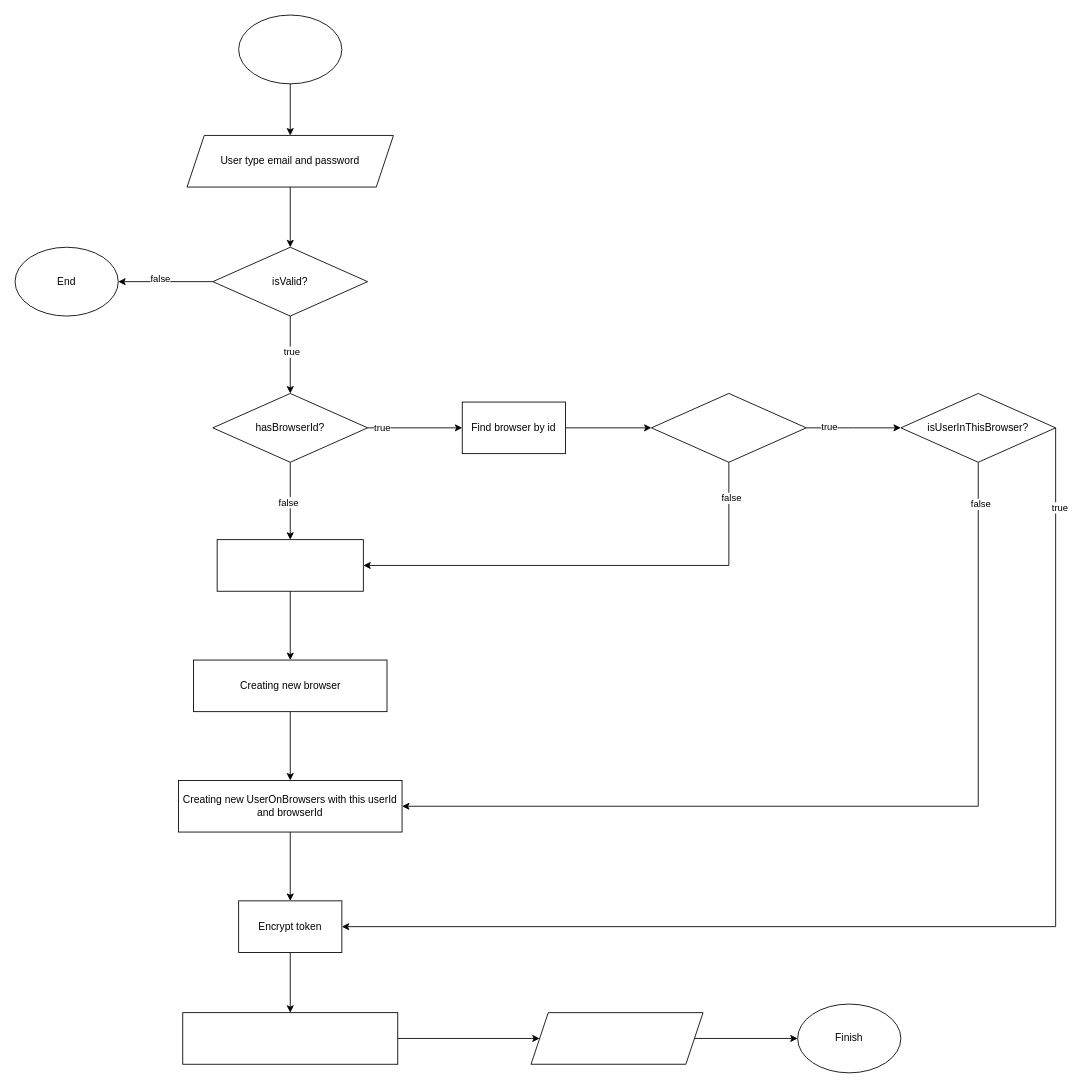
Some shapes in this 1083 by 1088 pixel diagram are drawn without their labels. Here are the shapes that lost their labels. From the top down, the centre of each, then its label:
At point 290,49: "Start".
At point 728,427: "isBrowserExist?".
At point 289,565: "Get token userId".
At point 290,1038: "Creating authLog with this encryptToken, browserId and userId".
At point 616,1038: "Send res { token, browserId, authLogId }".
